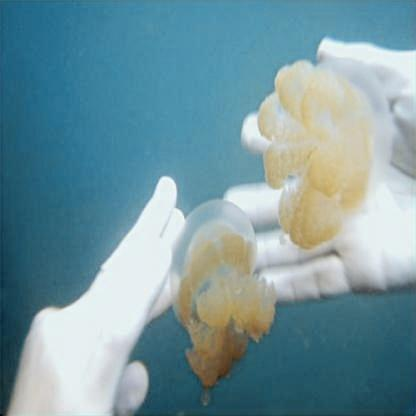Handstand: (257, 58, 395, 248), (170, 200, 278, 390)
